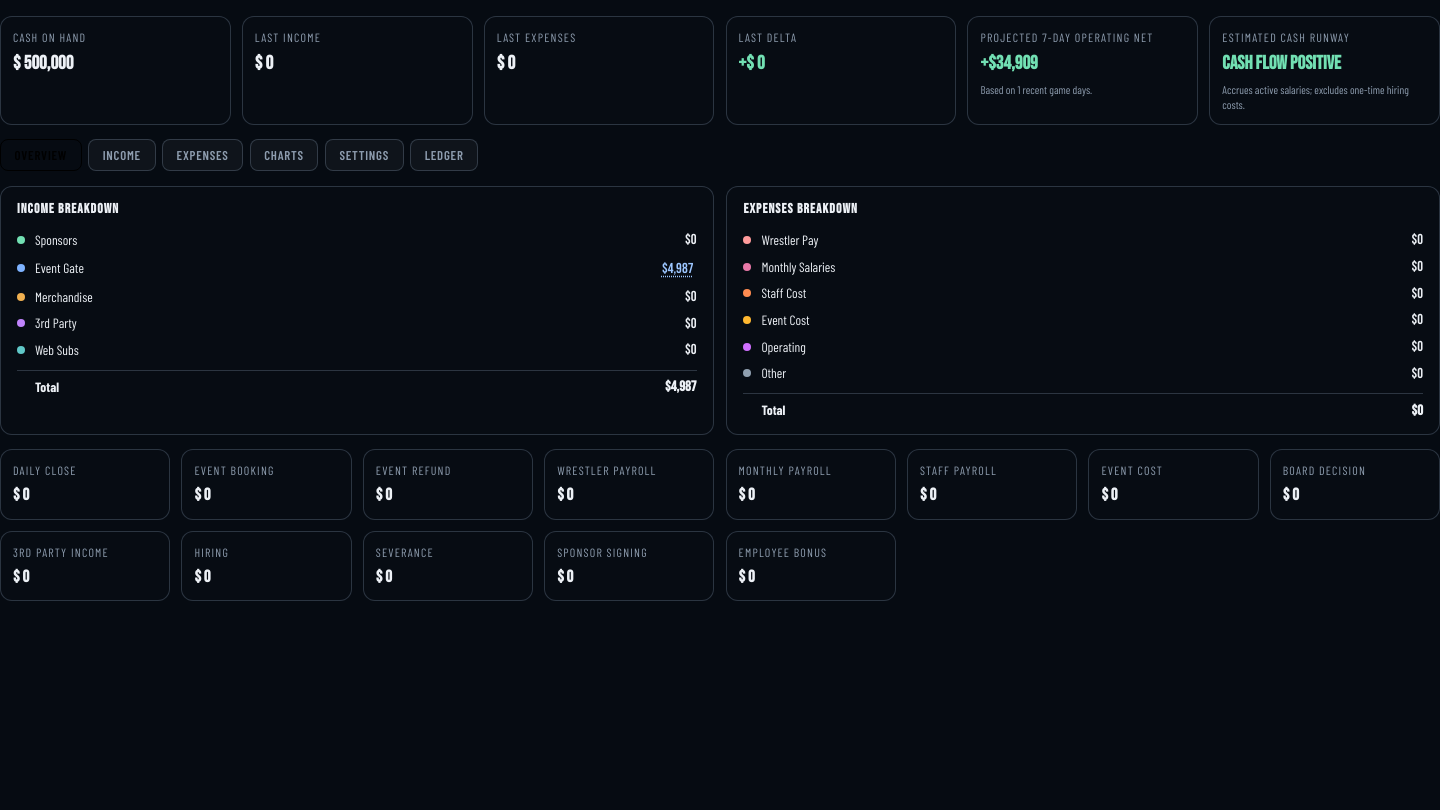
Test: ManageFinancesModule event gate breakdown › opens a detailed modal from the selected Event Gate amount
The width and height of the screenshot is (1440, 810).
Click the button "Income".
click(122, 155)  # box [88,139,156,171]
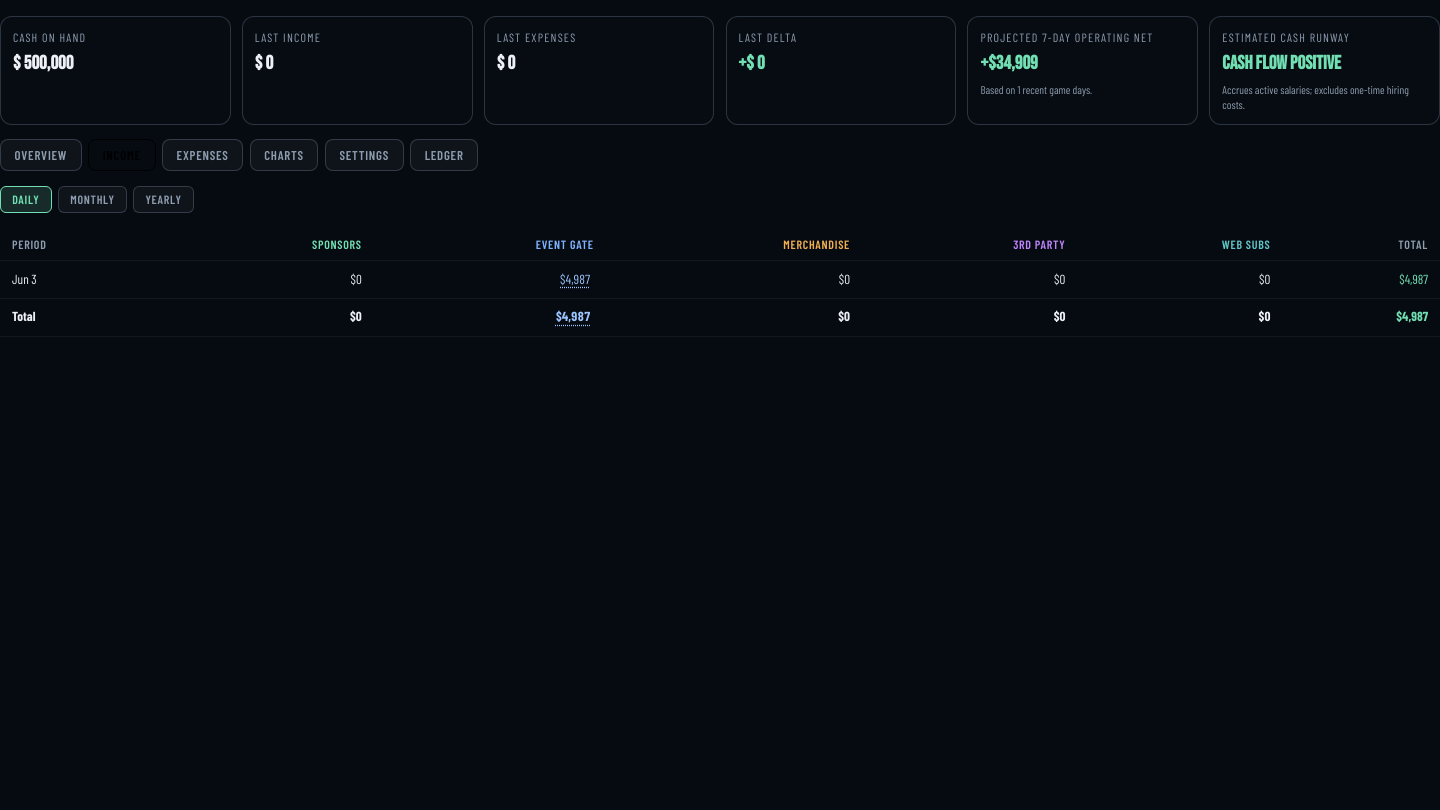
Click the button "$4,987" in the row of "Jun 3".
click(575, 279)  # box [557,269,594,290]
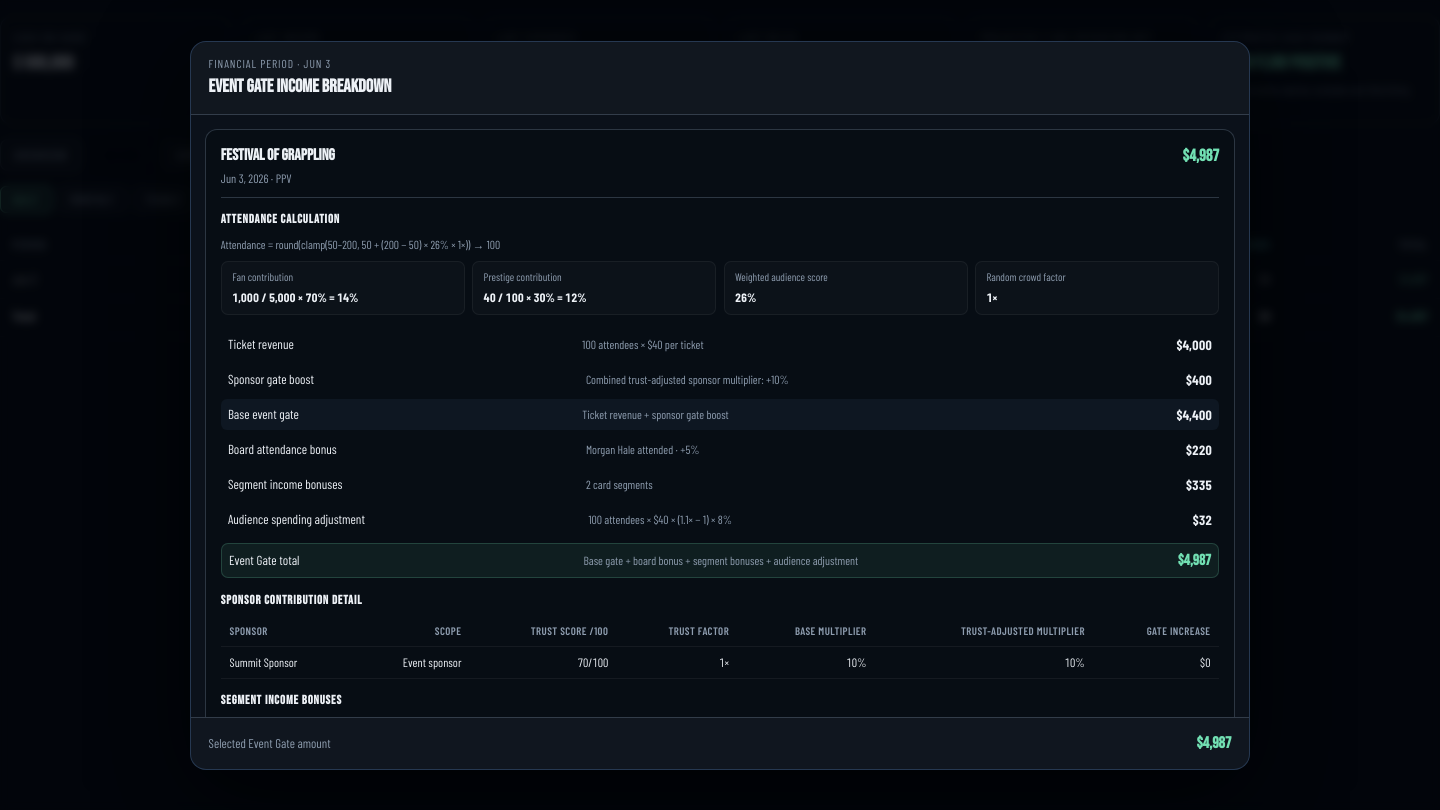
Expected: the dialog "Event Gate Income Breakdown" is shown
Expected: the heading "Festival of Grappling" is shown, [221,145,335,166]
Expected: the text "Summit Sponsor" is shown, [221,646,353,678]
Press Escape
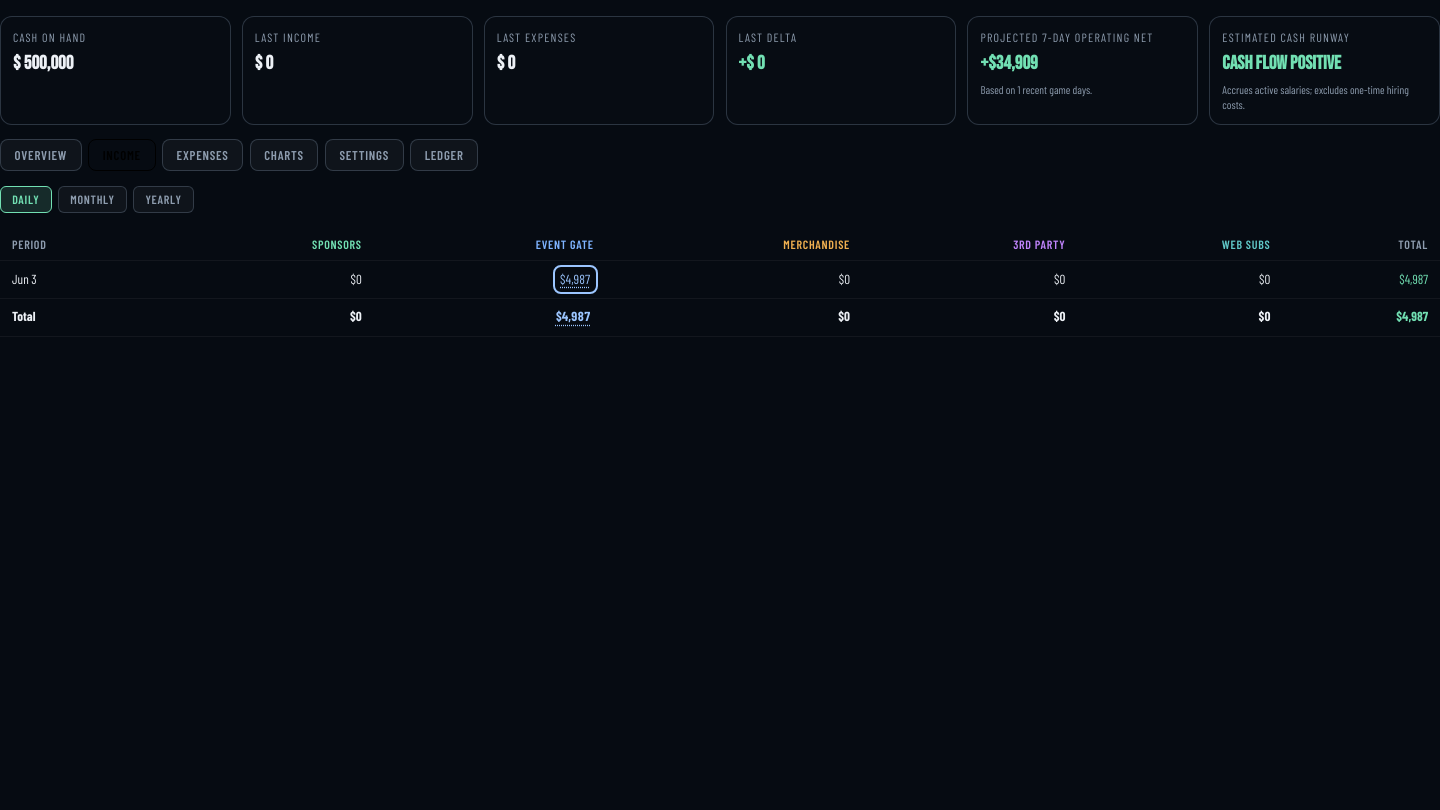
Expected: the dialog is gone
